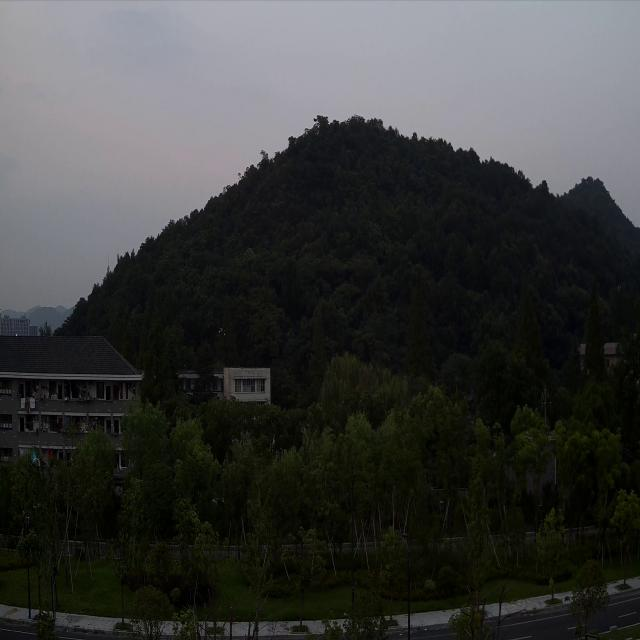drone: (218, 327, 226, 334)
